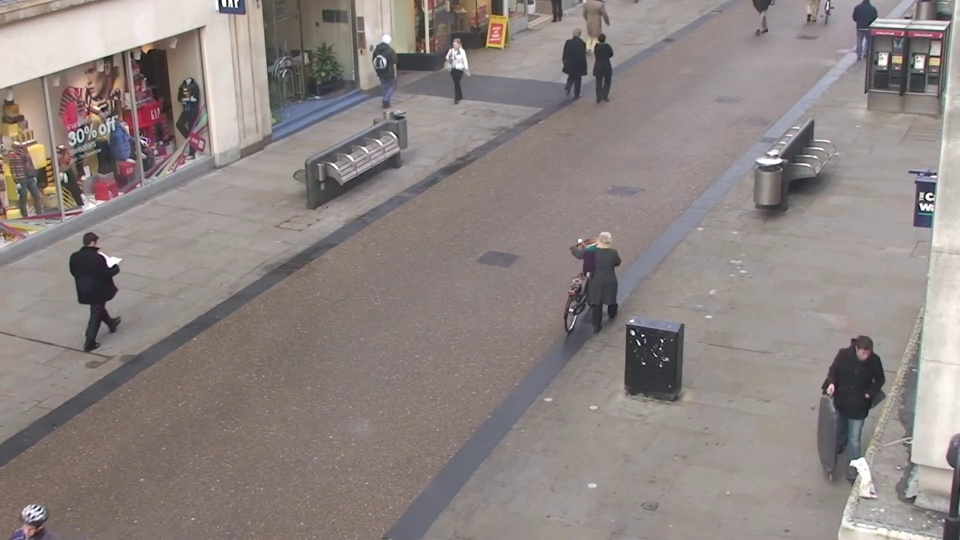pedestrian: (829, 334, 889, 490), (78, 221, 132, 342), (591, 220, 630, 344), (441, 39, 468, 113), (378, 29, 404, 100), (594, 30, 619, 103), (568, 23, 592, 93)
